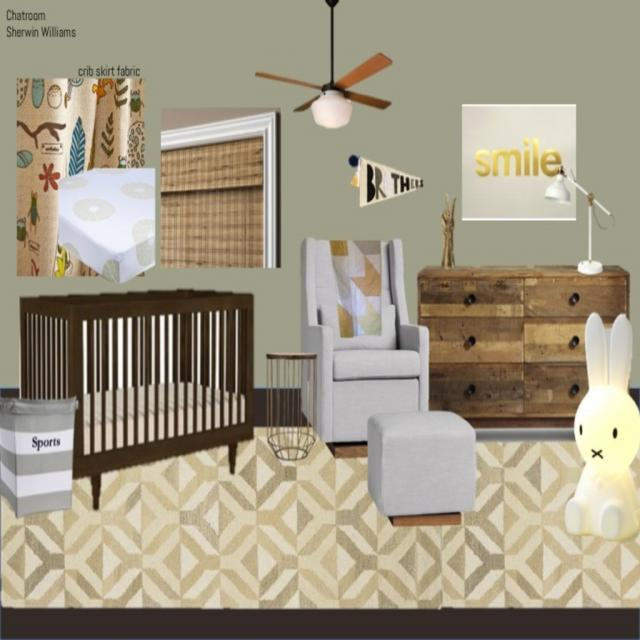fan_off: (255, 0, 396, 110)
